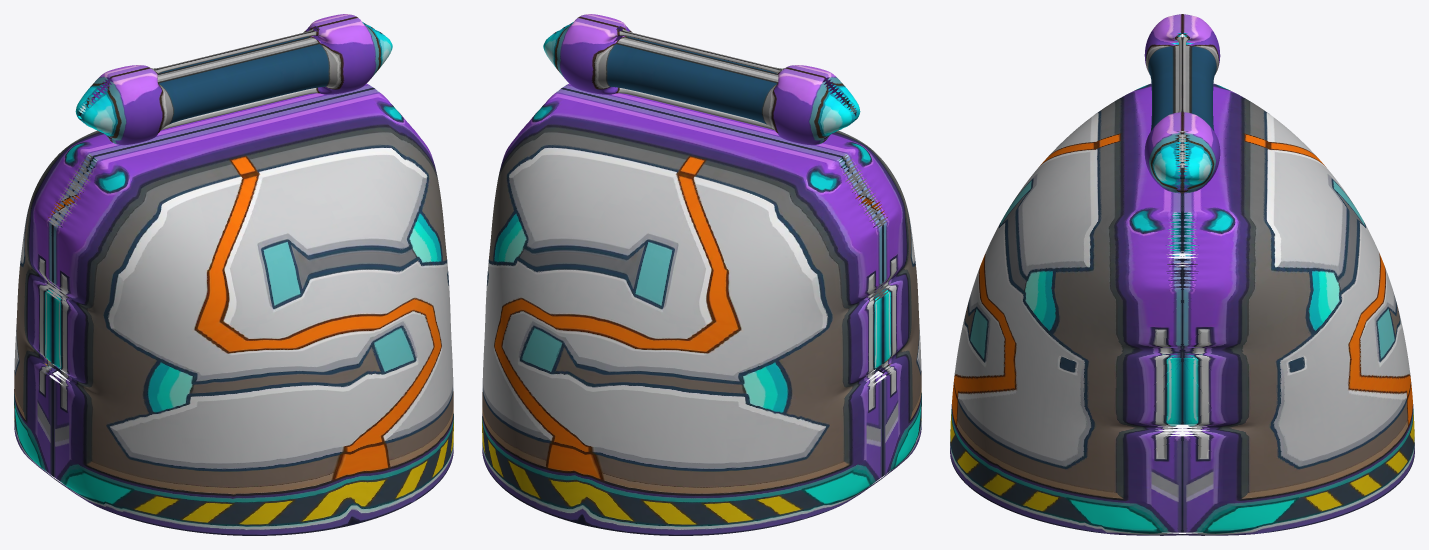
Rendered from main_panel.glb.
The picture shows the model from 3 angles, left to right: view 1: azimuth 30°, elevation 25°; view 2: azimuth 150°, elevation 25°; view 3: azimuth 270°, elevation 25°; orthographic projection. The views are drawn at different scales.
Parts seen in each view (by area): view 1: main_panel; view 2: main_panel; view 3: main_panel.
Boxes of the visible parts, x1,y1,x2,y2 form: main_panel: (14,14,453,535); main_panel: (482,14,921,535); main_panel: (950,14,1414,535).
Size of the model in its own units: 0.9887 by 1.02 by 1.13.
Materials: 1 (1 with a texture image).
